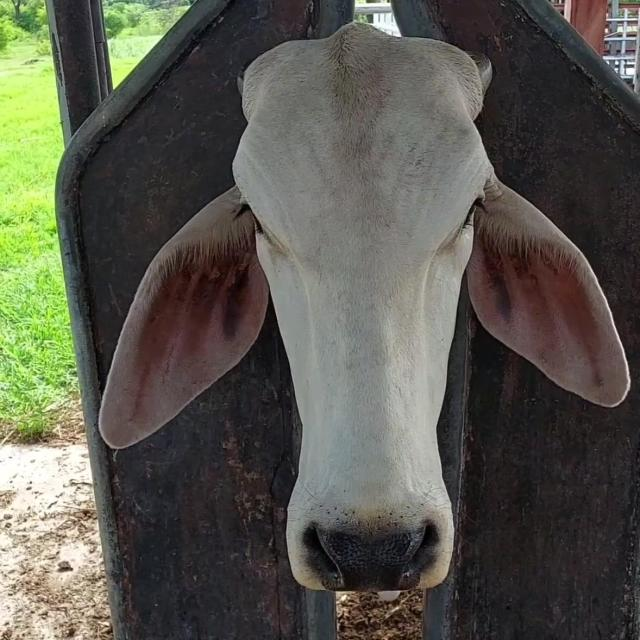cowFace: (240, 34, 482, 587)
